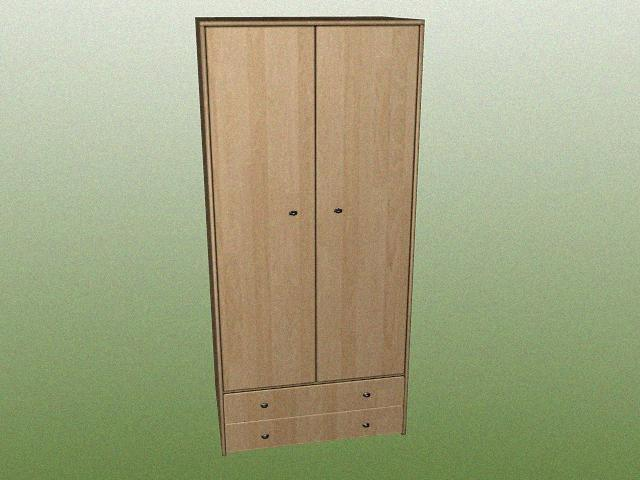cabinet_door: (214, 26, 316, 388), (316, 25, 412, 380), (224, 384, 404, 415), (225, 415, 402, 443)
handle: (258, 431, 272, 444), (360, 391, 375, 403), (333, 205, 345, 218), (359, 421, 371, 433), (258, 402, 271, 413)
